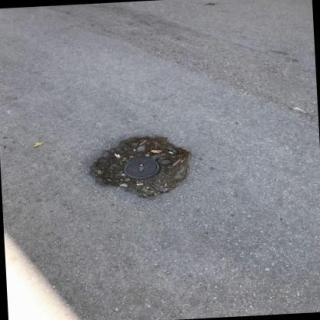pothole: (91, 137, 191, 199)
